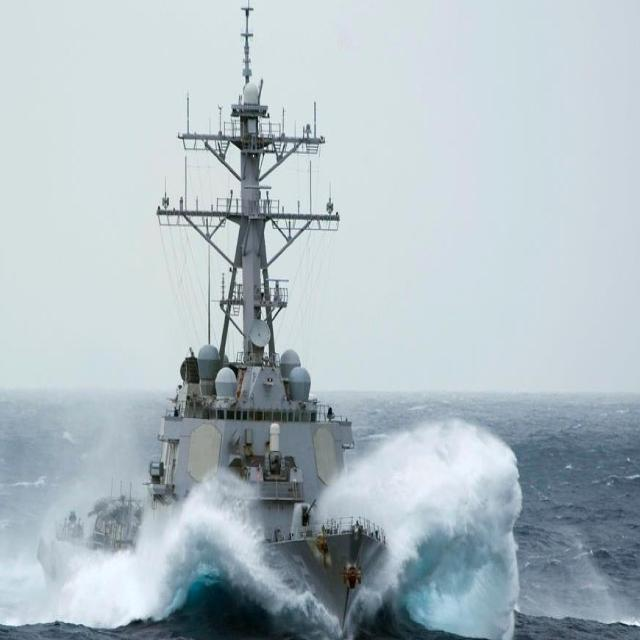navalvessels: (43, 24, 420, 640)
